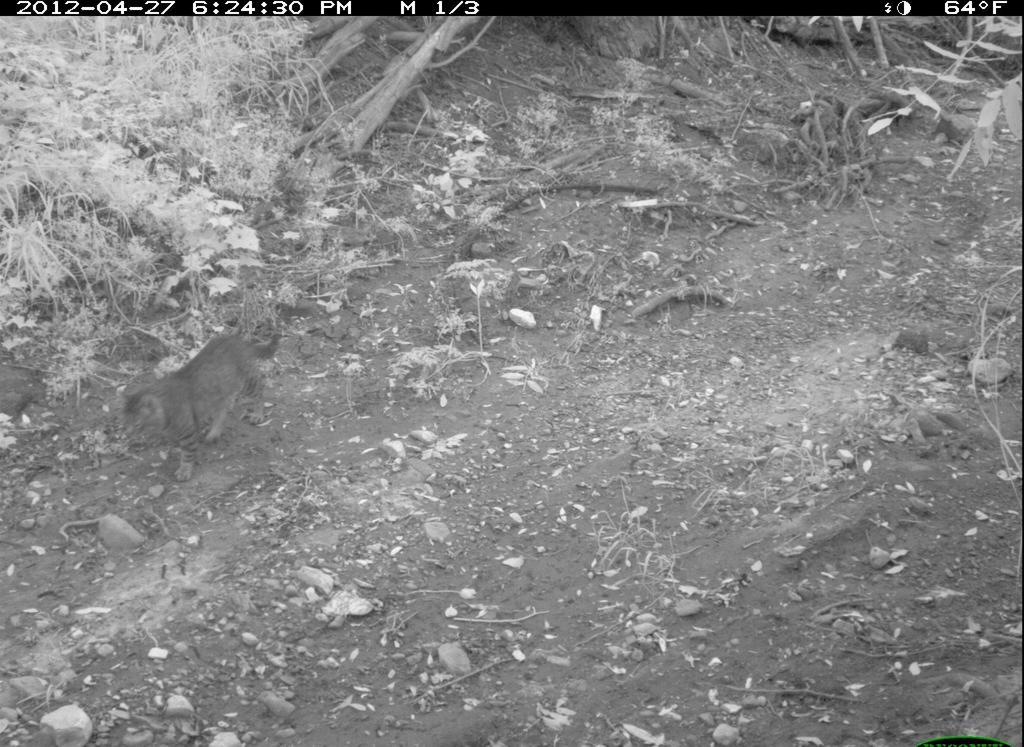cat: (111, 325, 288, 490)
